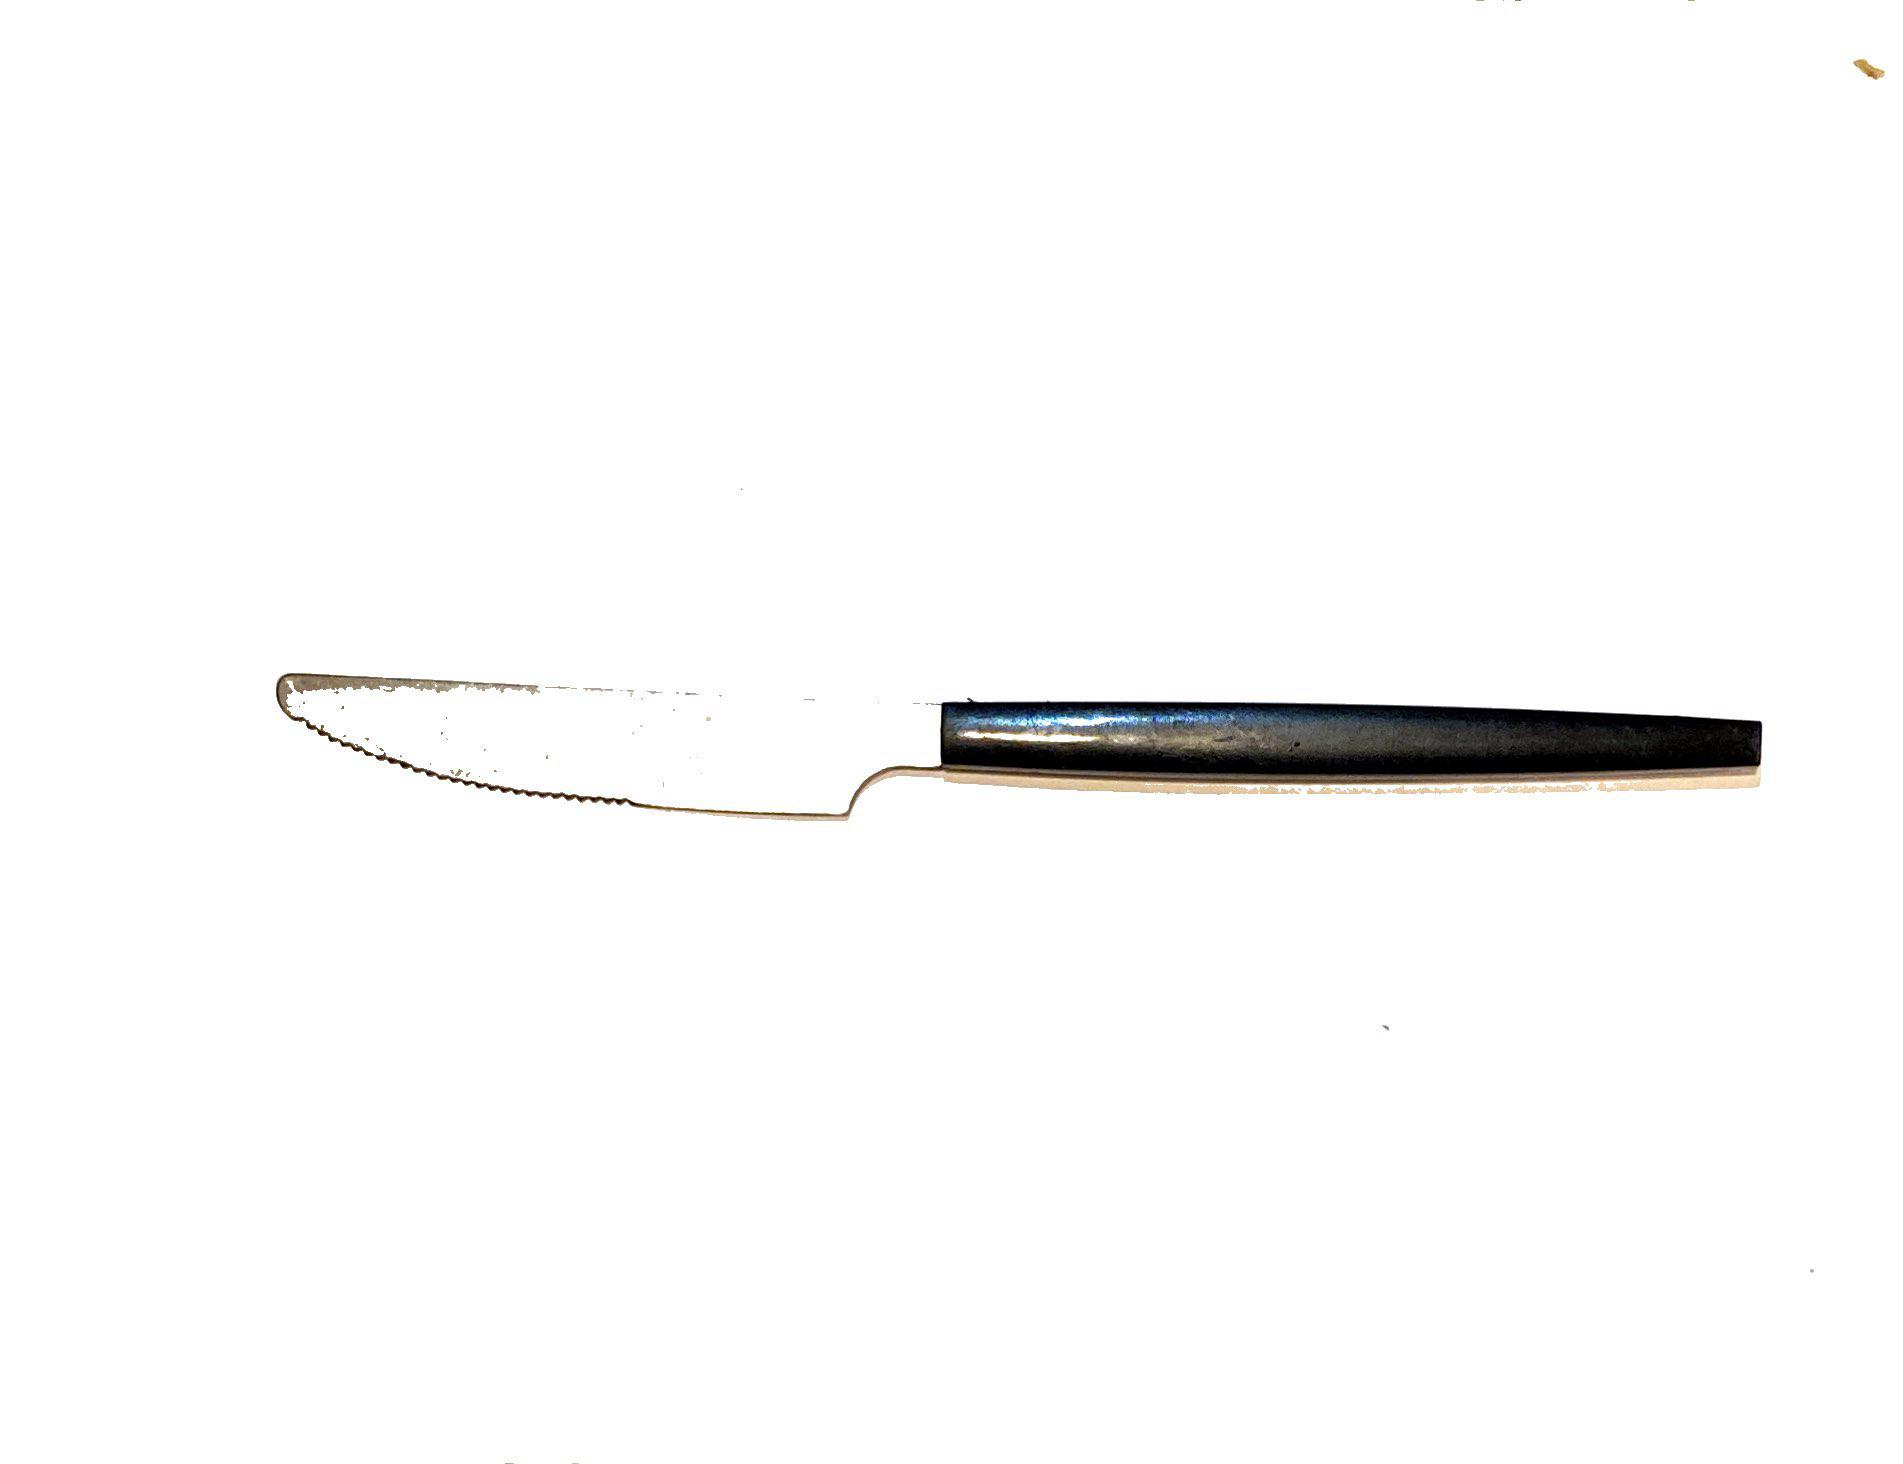Knife: (257, 566, 1842, 937)
